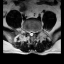CCS_stenosis: (30, 29, 32, 38)
LFS_normal: (34, 28, 36, 35)
LLS_normal: (32, 29, 34, 36)
RFS_normal: (26, 28, 28, 35)
RLS_normal: (28, 29, 30, 37)
